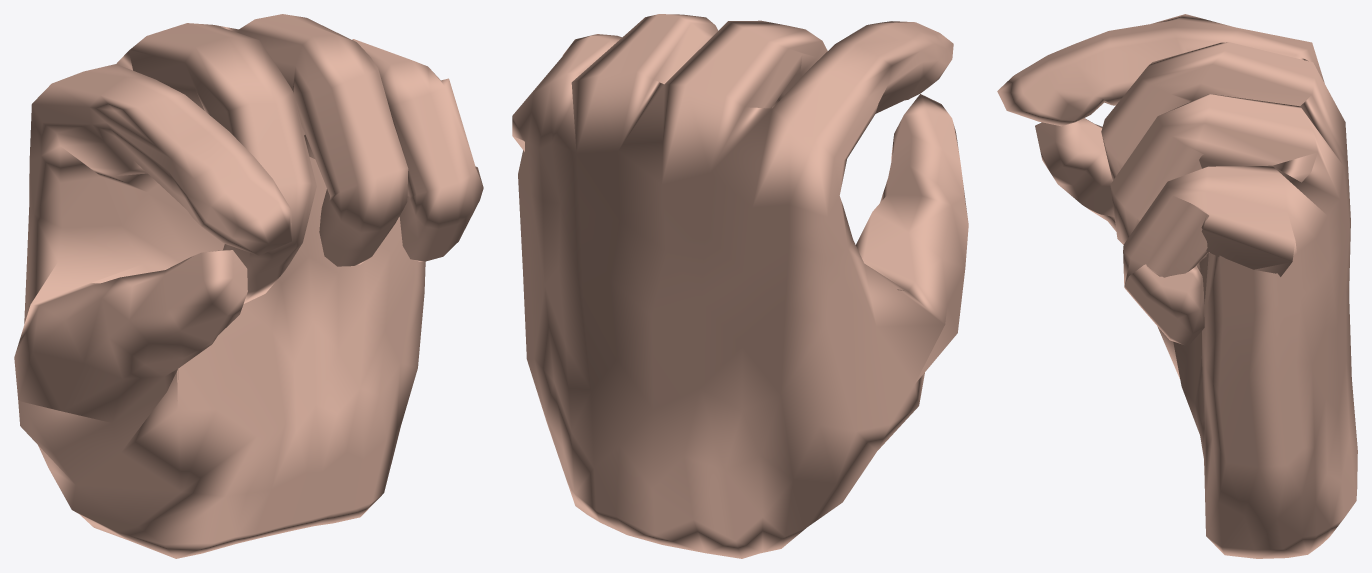
Rendered from MAO_PASSARINHO_ABERTA.obj.
3 views of the same model, side by side, from view 1: azimuth 30°, elevation 25°; view 2: azimuth 150°, elevation 25°; view 3: azimuth 270°, elevation 25° (orthographic). The views are drawn at different scales.
Visible parts, largest first — view 1: mao_dir polySurface1; view 2: mao_dir polySurface1; view 3: mao_dir polySurface1.
Part boxes in pixels (x1=…): mao_dir polySurface1: x1=14, y1=14, x2=483, y2=558; mao_dir polySurface1: x1=512, y1=14, x2=968, y2=558; mao_dir polySurface1: x1=997, y1=14, x2=1357, y2=558.
Size of the model in its own units: 136 by 156 by 113.
